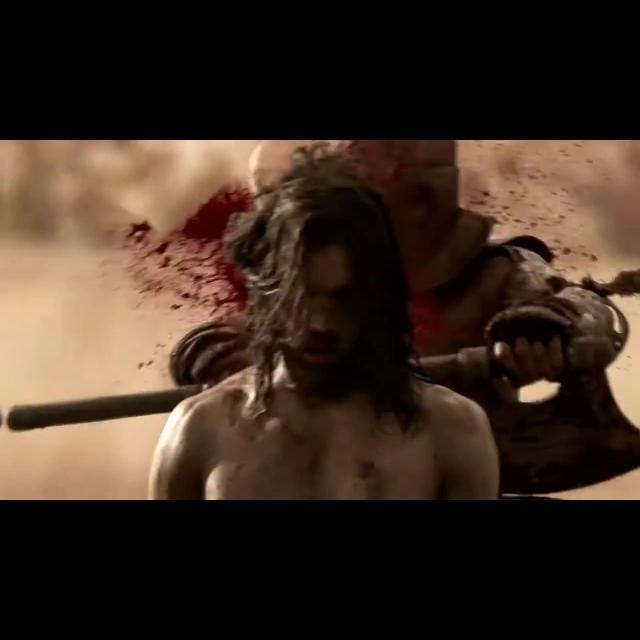blood: (125, 184, 253, 318)
